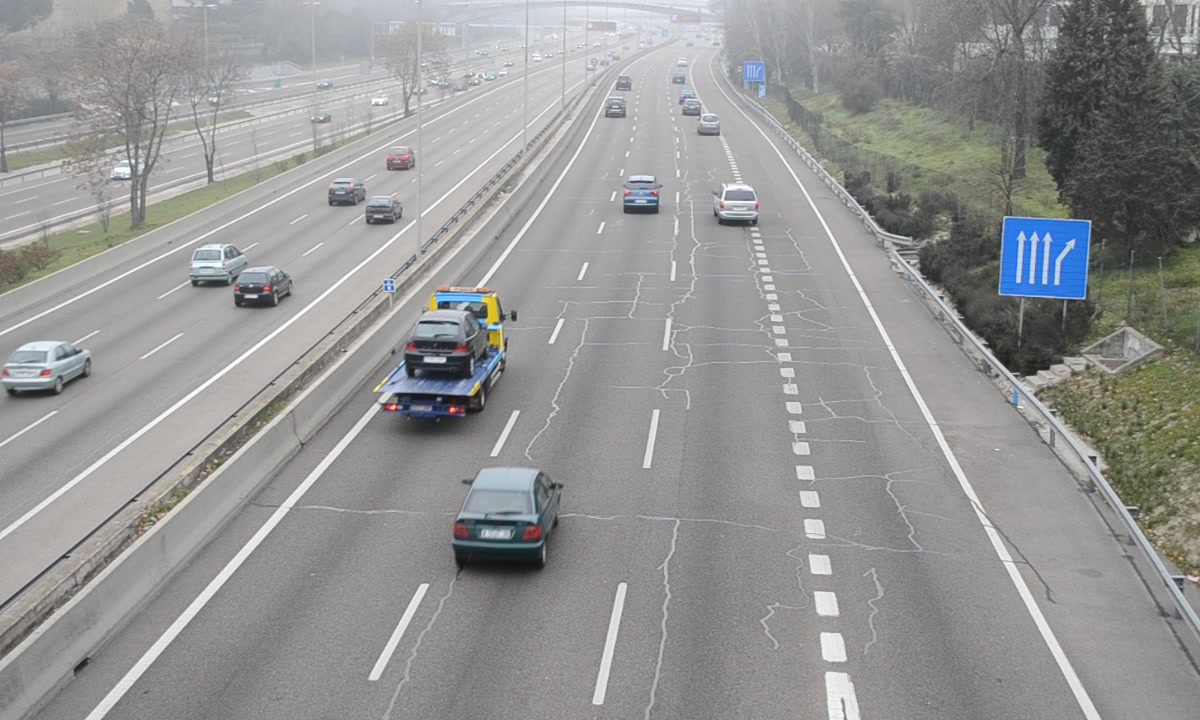car: (451, 468, 559, 556), (715, 183, 759, 224), (622, 175, 659, 212), (695, 112, 719, 139), (603, 95, 625, 118)
small-truck: (373, 289, 507, 417)
